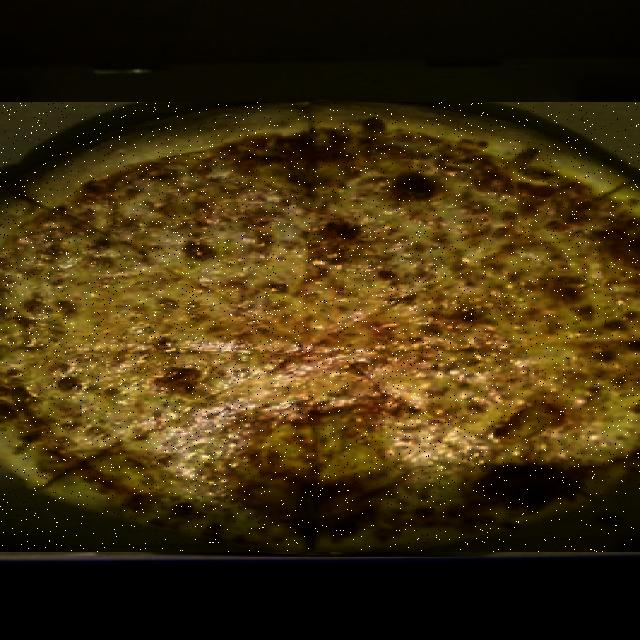Pizza: (0, 102, 640, 552)
